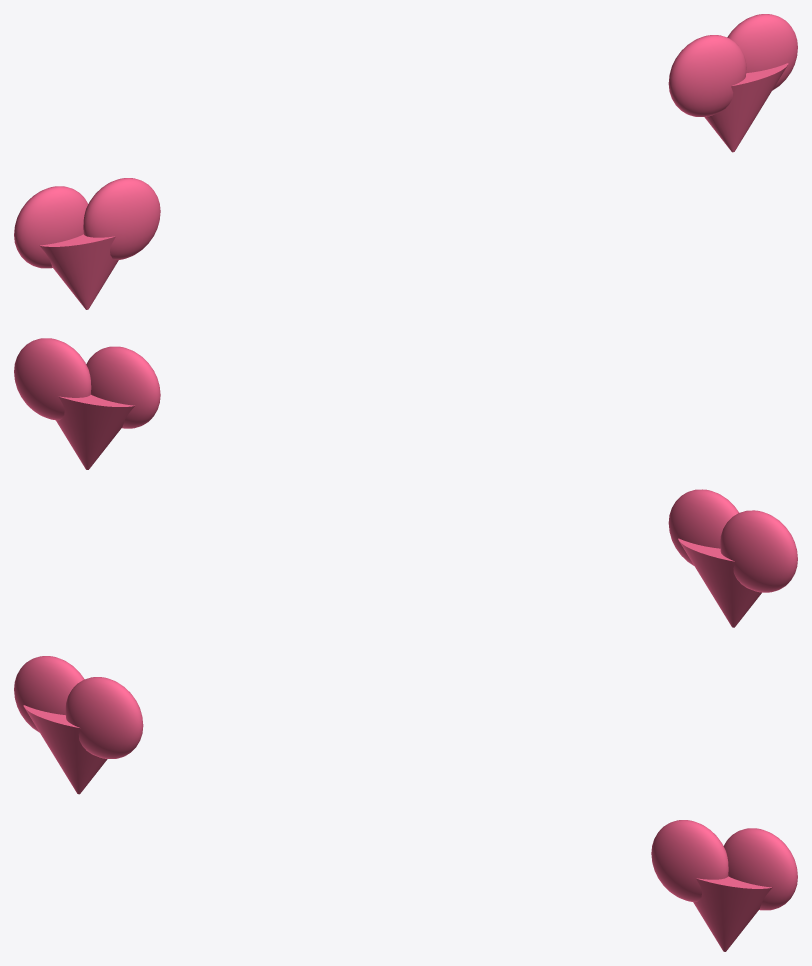
The model's file is heart_sticker.fbx.
3 views of the same model, one above another, from view 1: azimuth 30°, elevation 25°; view 2: azimuth 150°, elevation 25°; view 3: azimuth 330°, elevation 25° (orthographic).
Visible parts, largest first — view 1: Sphere178, Sphere177, Sphere176, Cone019, Sphere179, Cone020; view 2: Sphere176, Sphere179, Sphere178, Cone020, Sphere177, Cone019; view 3: Sphere177, Sphere178, Sphere179, Cone020, Sphere176, Cone019.
Boxes of the visible parts, x1,y1,x2,y2 form: Sphere178: (668, 35, 746, 116); Sphere177: (83, 178, 160, 259); Sphere176: (14, 186, 88, 268); Cone019: (39, 234, 118, 309); Sphere179: (727, 14, 797, 90); Cone020: (704, 63, 788, 152); Sphere176: (720, 510, 797, 592); Sphere179: (14, 338, 91, 420); Sphere178: (86, 346, 160, 428); Cone020: (56, 395, 135, 469); Sphere177: (668, 489, 739, 565); Cone019: (678, 538, 761, 627); Sphere177: (65, 677, 143, 758); Sphere178: (651, 820, 728, 901); Sphere179: (723, 828, 797, 910); Cone020: (693, 876, 772, 951); Sphere176: (14, 656, 84, 732); Cone019: (23, 705, 107, 794).
Bounding box in the file's own units: 11.37 × 1.75 × 0.7133.
